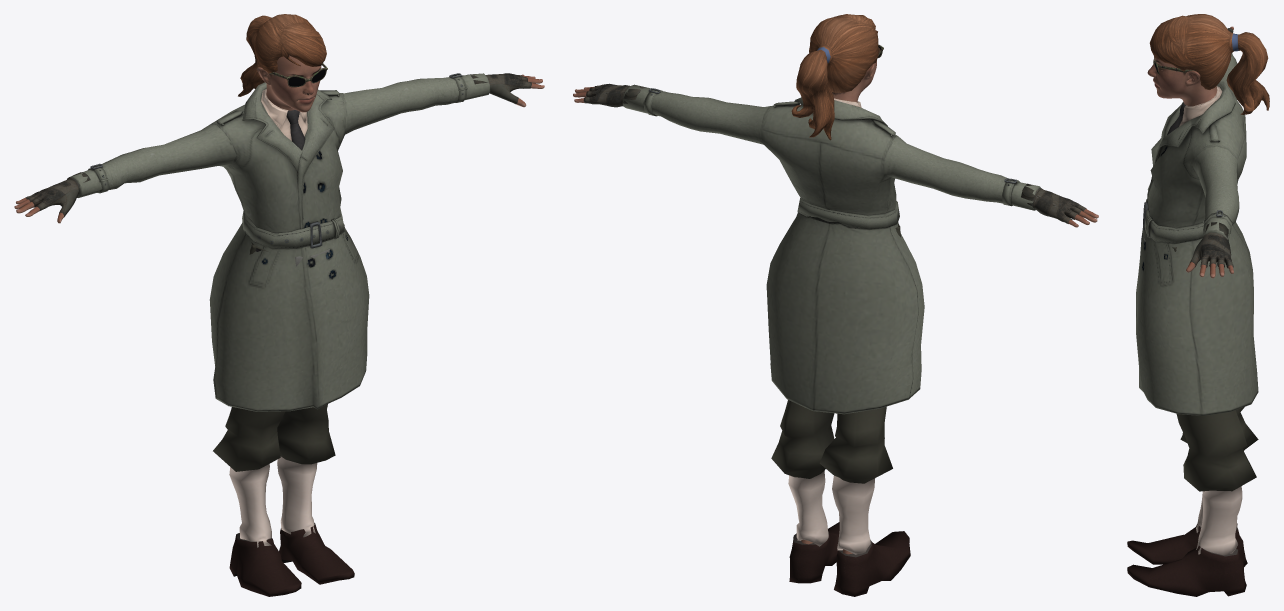
Rendered from modelw8.obj.
3 renders of one model, left to right at view 1: azimuth 30°, elevation 25°; view 2: azimuth 150°, elevation 25°; view 3: azimuth 270°, elevation 25°, orthographic.
Parts seen in each view (by area): view 1: Tops, Bottoms, Shoes, Hair, Body, Gloves; view 2: Tops, Bottoms, Hair, Shoes, Gloves, Body; view 3: Tops, Bottoms, Hair, Shoes, Body, Gloves.
Boxes of the visible parts, x1=… form: Tops: x1=69, y1=73, x2=490, y2=411; Bottoms: x1=213, y1=224, x2=344, y2=547; Shoes: x1=229, y1=523, x2=354, y2=596; Hair: x1=238, y1=14, x2=326, y2=96; Body: x1=14, y1=55, x2=544, y2=223; Gloves: x1=25, y1=73, x2=531, y2=217; Tops: x1=622, y1=84, x2=1040, y2=414; Bottoms: x1=771, y1=223, x2=900, y2=554; Hair: x1=791, y1=14, x2=878, y2=140; Shoes: x1=789, y1=522, x2=910, y2=596; Gloves: x1=583, y1=83, x2=1086, y2=223; Body: x1=573, y1=60, x2=1098, y2=554; Tops: x1=1136, y1=53, x2=1258, y2=415; Bottoms: x1=1142, y1=232, x2=1258, y2=555; Hair: x1=1149, y1=14, x2=1269, y2=114; Shoes: x1=1127, y1=523, x2=1247, y2=596; Body: x1=1147, y1=26, x2=1233, y2=278; Gloves: x1=1190, y1=28, x2=1233, y2=268.
Bounding box in the file's own units: 170 × 173 × 39.77.
Materials: 7 (7 with a texture image).
